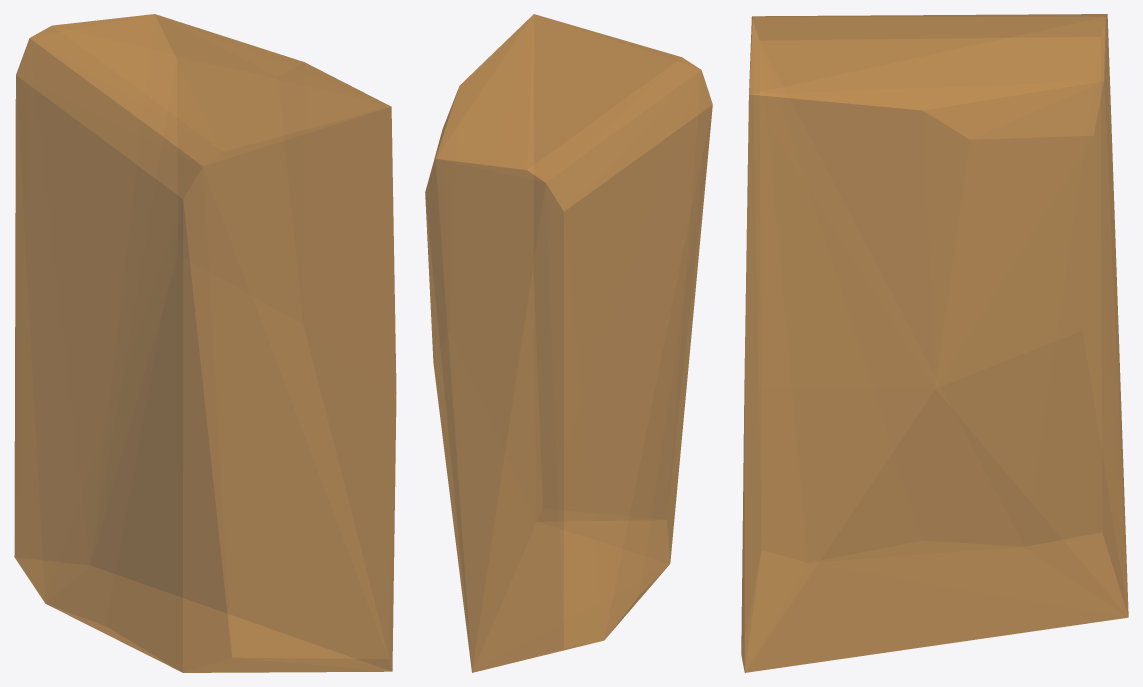
3 renders of one model, left to right at view 1: azimuth 30°, elevation 25°; view 2: azimuth 150°, elevation 25°; view 3: azimuth 270°, elevation 25°, orthographic. The views are drawn at different scales.
Visible parts, largest first — view 1: Shape_IndexedFaceSet.011_Shape_IndexedFaceSet.18234; view 2: Shape_IndexedFaceSet.011_Shape_IndexedFaceSet.18234; view 3: Shape_IndexedFaceSet.011_Shape_IndexedFaceSet.18234.
Boxes of the visible parts, bbox=[...] form: Shape_IndexedFaceSet.011_Shape_IndexedFaceSet.18234: bbox=[14, 14, 396, 672]; Shape_IndexedFaceSet.011_Shape_IndexedFaceSet.18234: bbox=[425, 14, 712, 672]; Shape_IndexedFaceSet.011_Shape_IndexedFaceSet.18234: bbox=[741, 14, 1128, 672].
Bounding box in the file's own units: 0.1078 × 0.2714 × 0.1639.
